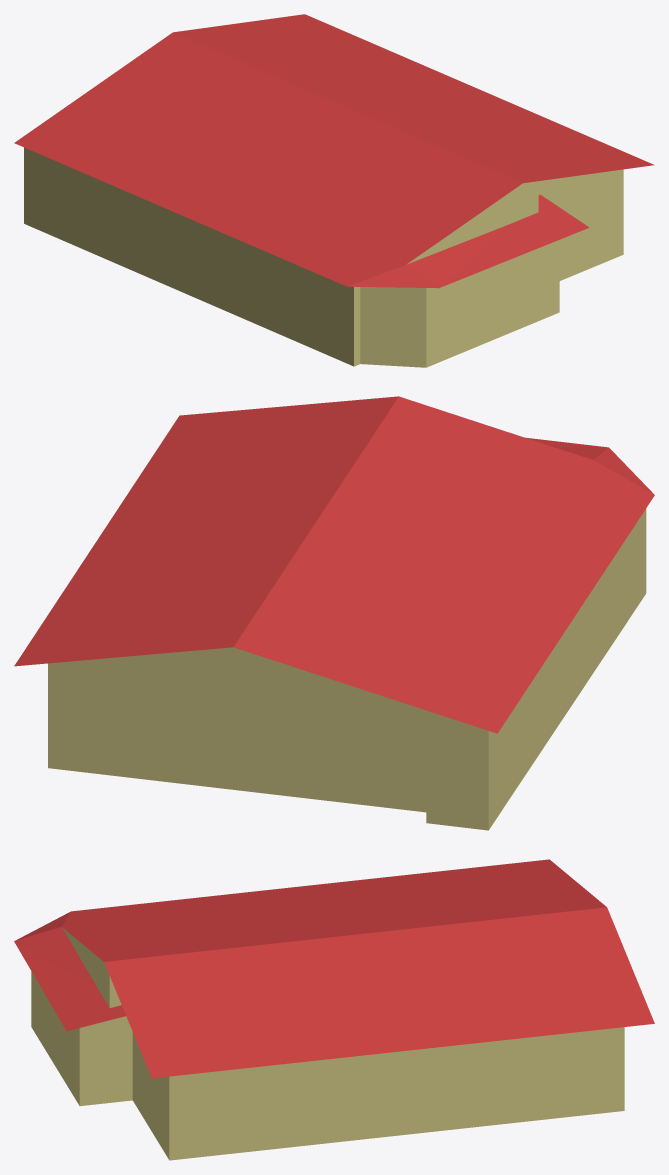
The picture shows the model from 3 angles, top to bottom: view 1: azimuth 30°, elevation 25°; view 2: azimuth 150°, elevation 25°; view 3: azimuth 270°, elevation 25°; orthographic projection. The views are drawn at different scales.
Bounding box in the file's own units: 37.9 × 45.06 × 10.2.
